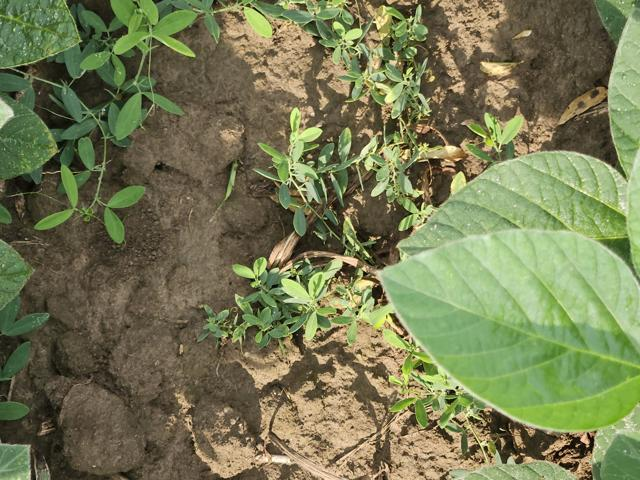bad weed: (215, 10, 451, 398), (55, 16, 171, 251)
